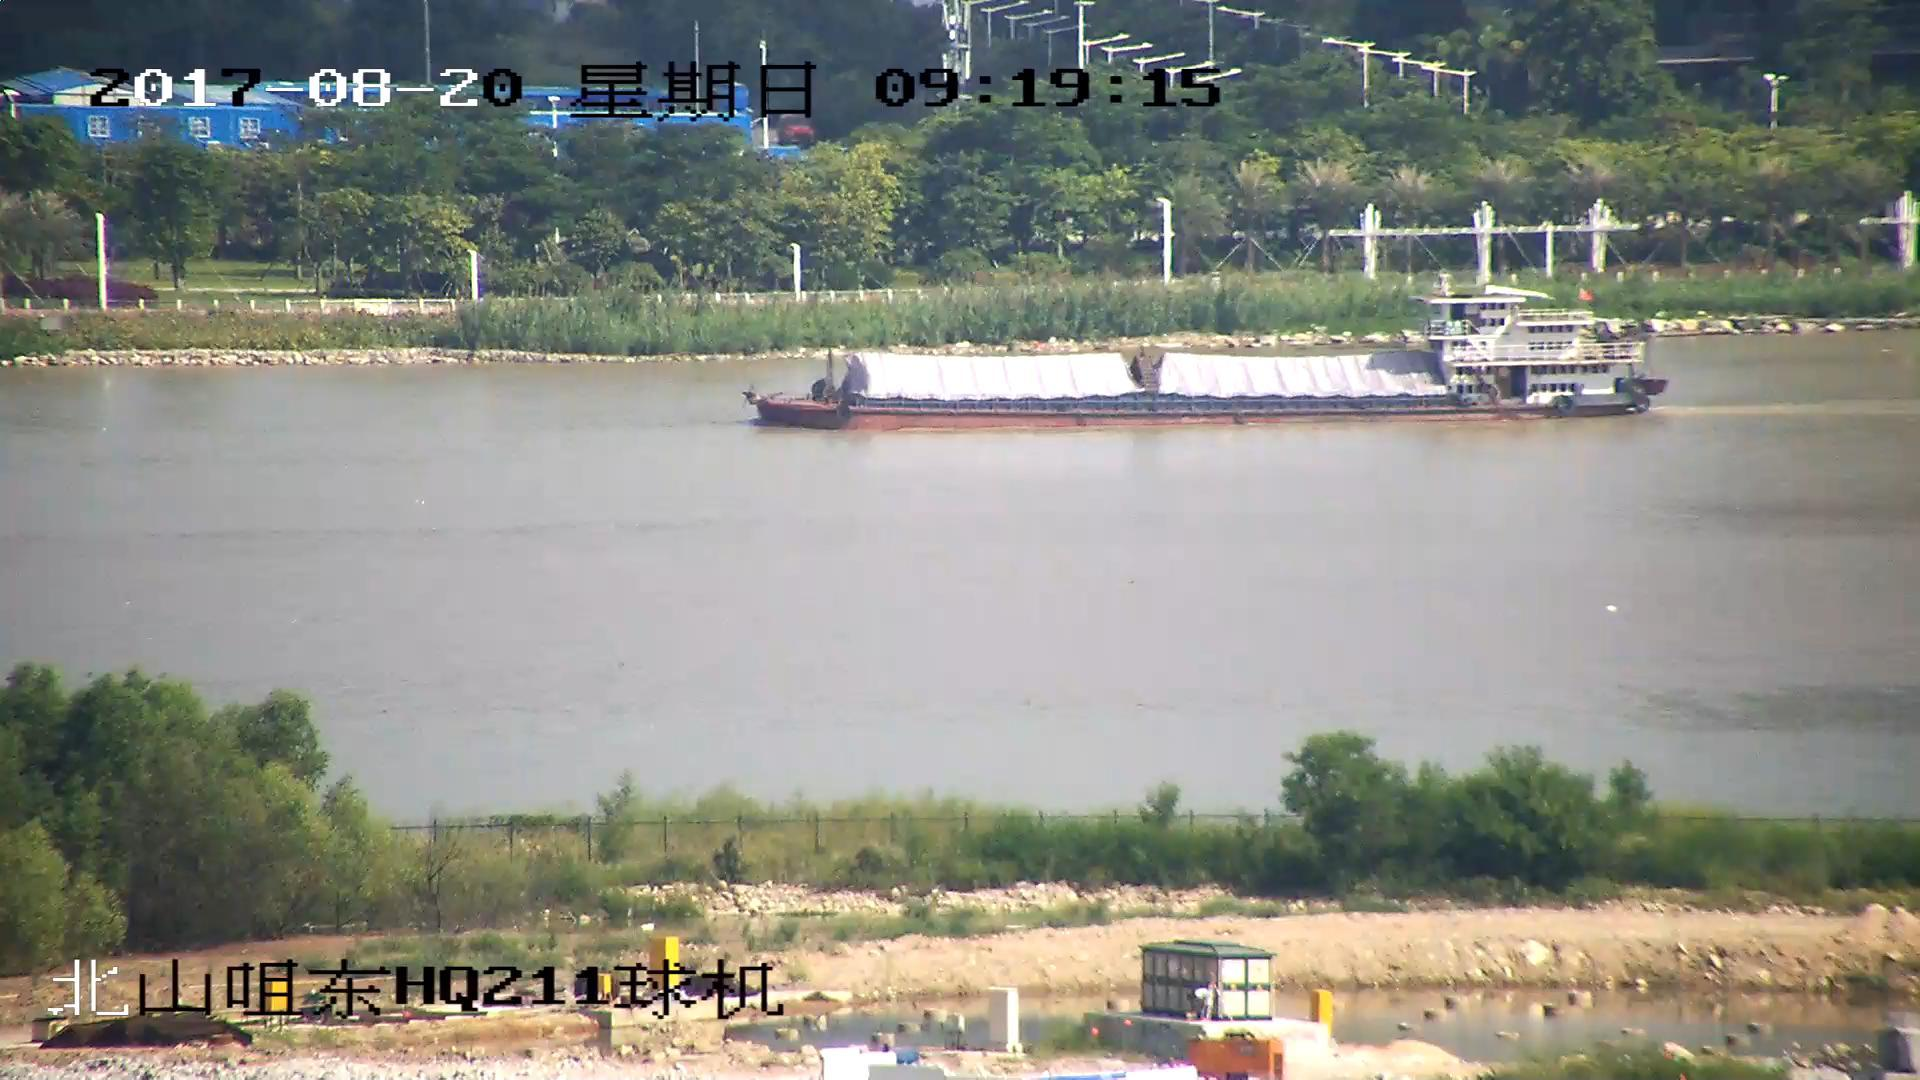Ship: (744, 281, 1672, 435)
